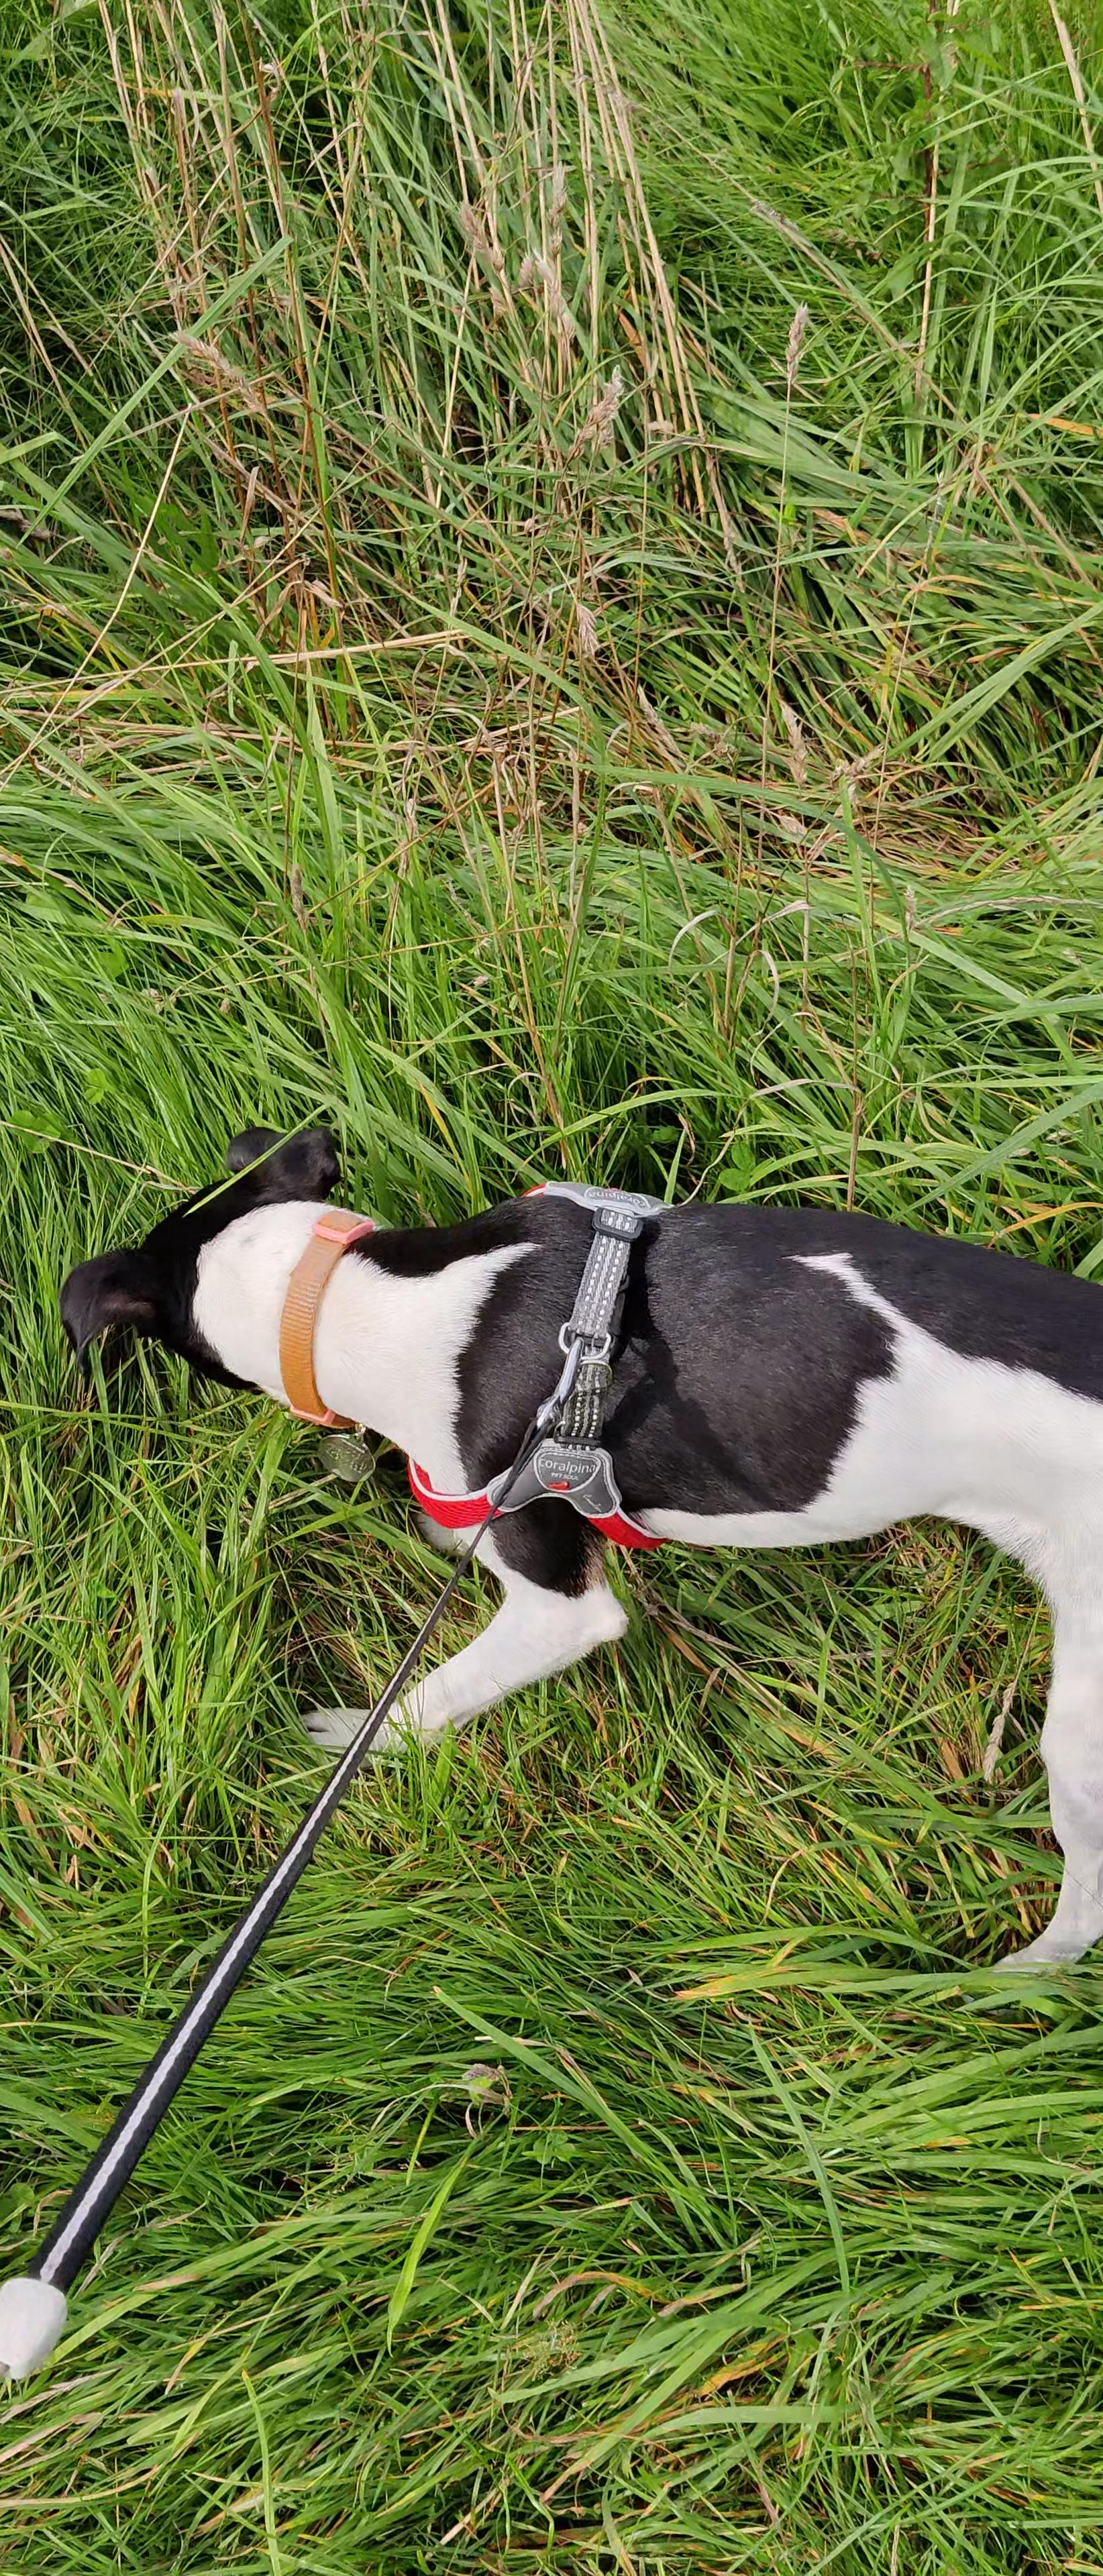Dog: (23, 1076, 1103, 1986)
